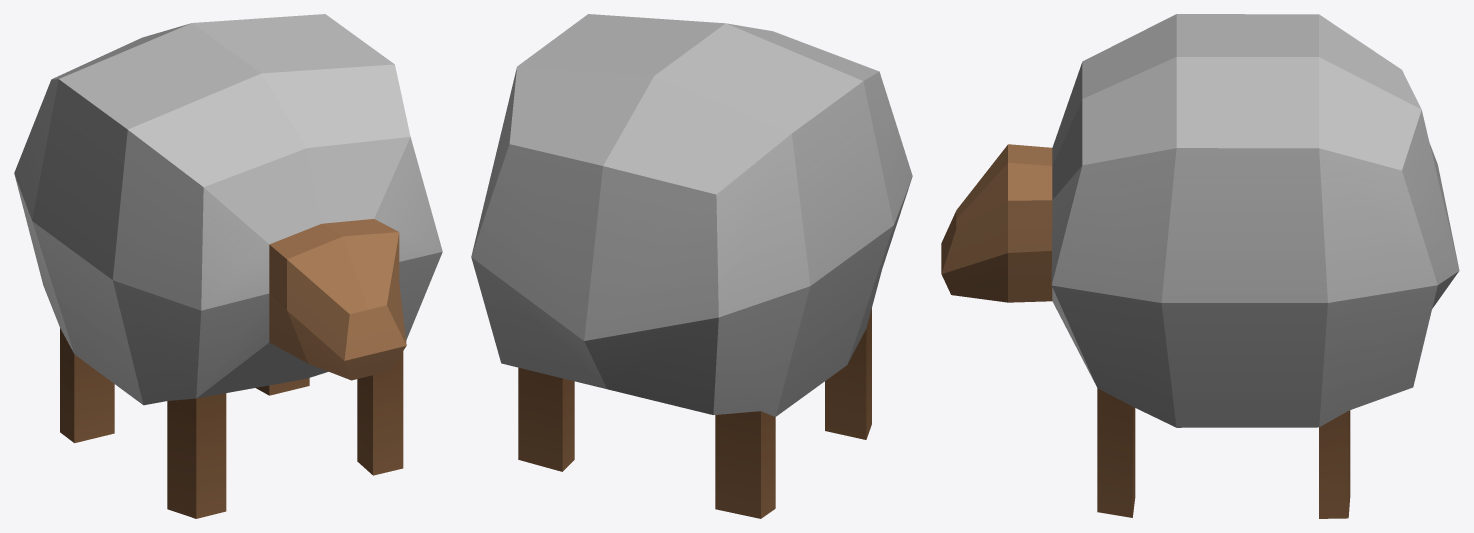
Rendered from Sheep.fbx.
The picture shows the model from 3 angles, left to right: view 1: azimuth 30°, elevation 25°; view 2: azimuth 150°, elevation 25°; view 3: azimuth 270°, elevation 25°; orthographic projection. The views are drawn at different scales.
Visible parts, largest first — view 1: Sheep; view 2: Sheep; view 3: Sheep.
Part boxes in pixels (bbox=[...]): Sheep: bbox=[14, 14, 442, 518]; Sheep: bbox=[471, 14, 912, 518]; Sheep: bbox=[941, 14, 1459, 518].
Size of the model in its own units: 144 by 173 by 202.
1 material, 1 textured.
